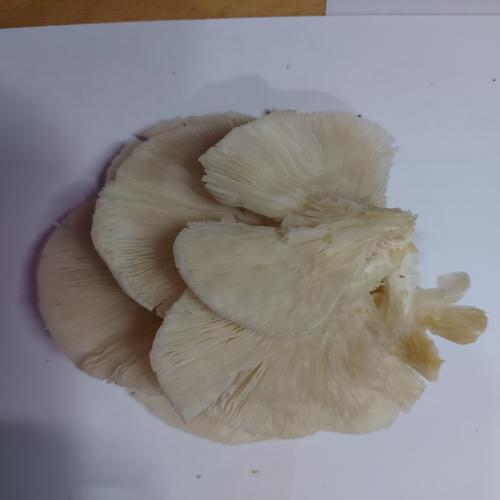Oyster Mushroom: (34, 108, 488, 445)
